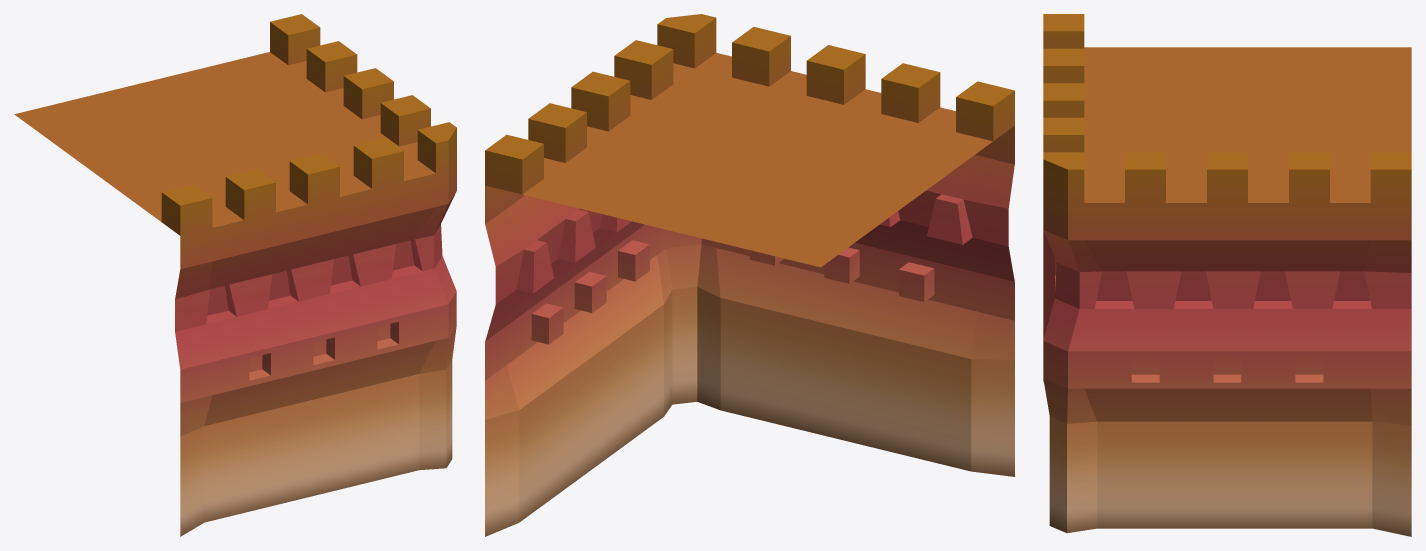
File: fort1.001.fbx
The picture shows the model from 3 angles, left to right: view 1: azimuth 30°, elevation 25°; view 2: azimuth 150°, elevation 25°; view 3: azimuth 270°, elevation 25°; orthographic projection. The views are drawn at different scales.
Visible parts, largest first — view 1: fort1.001; view 2: fort1.001; view 3: fort1.001.
Part boxes in pixels (bbox=[...]): fort1.001: bbox=[14, 14, 456, 536]; fort1.001: bbox=[485, 14, 1014, 536]; fort1.001: bbox=[1043, 14, 1411, 536].
Size of the model in its own units: 100 by 110 by 100.
